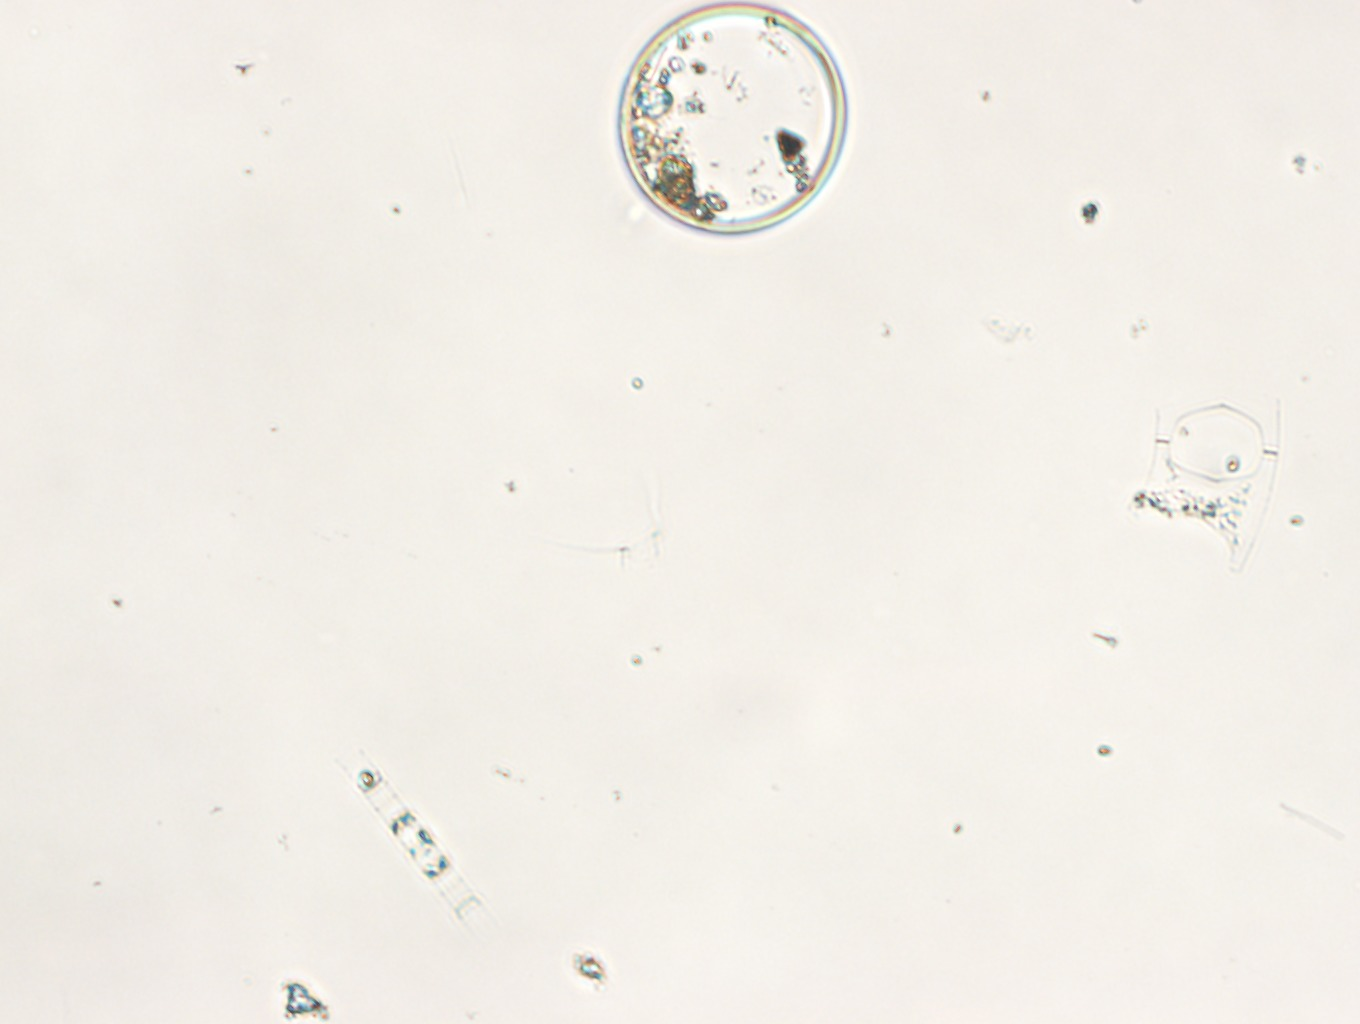coscinodiscus: (618, 1, 848, 234)
eucampia: (1150, 399, 1278, 582)
skeletonema: (333, 760, 493, 934)
